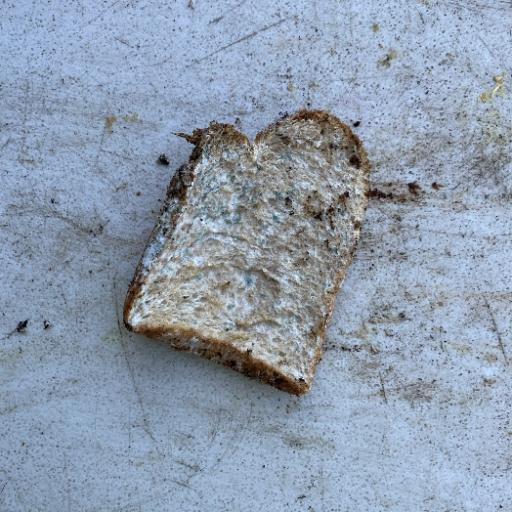Waste: (121, 108, 372, 396)
